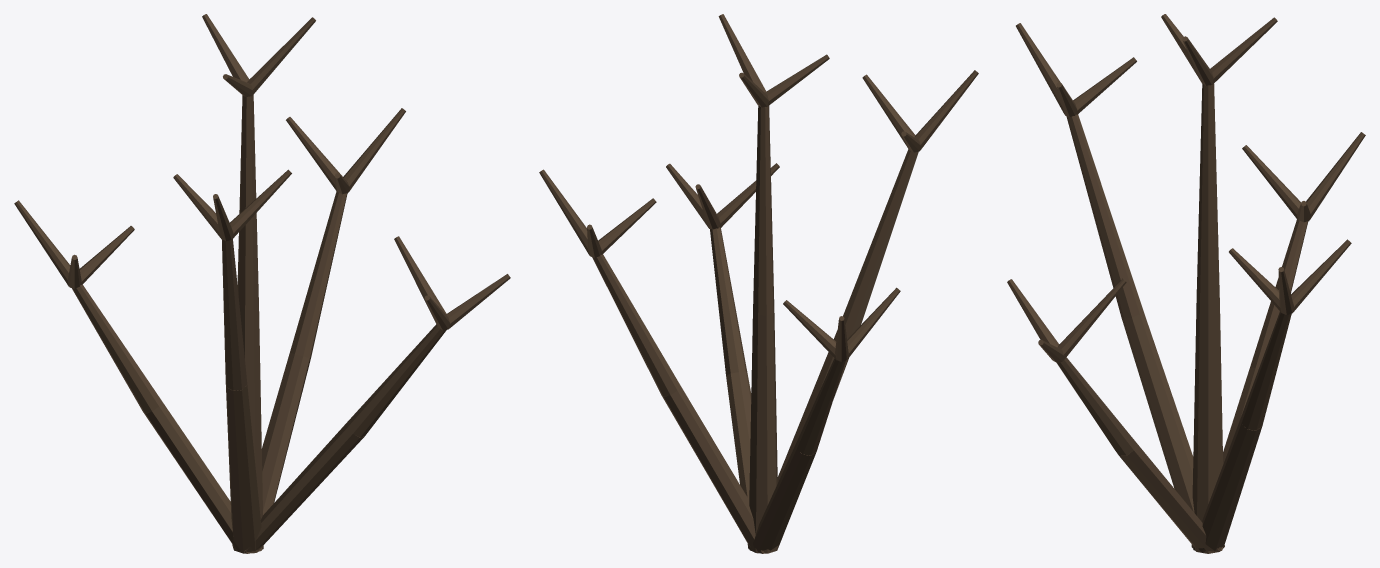
File: blueberry_winter.glb
3 views of the same model, side by side, from view 1: azimuth 30°, elevation 25°; view 2: azimuth 150°, elevation 25°; view 3: azimuth 270°, elevation 25° (orthographic). The views are drawn at different scales.
Parts seen in each view (by area): view 1: blueberry_winter; view 2: blueberry_winter; view 3: blueberry_winter.
Part boxes in pixels (x1,y1,x2,y2): blueberry_winter: [14, 14, 510, 553]; blueberry_winter: [539, 14, 978, 553]; blueberry_winter: [1007, 14, 1365, 553].
Bounding box in the file's own units: 0.999 × 1.42 × 0.8625.
